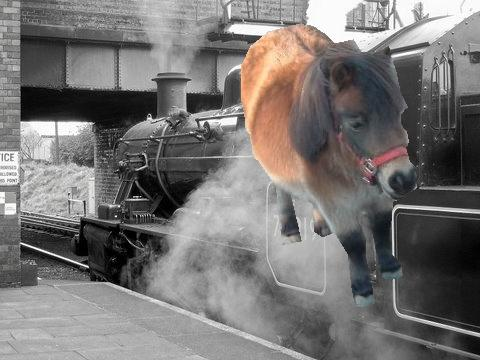tampered: (242, 24, 418, 307)
